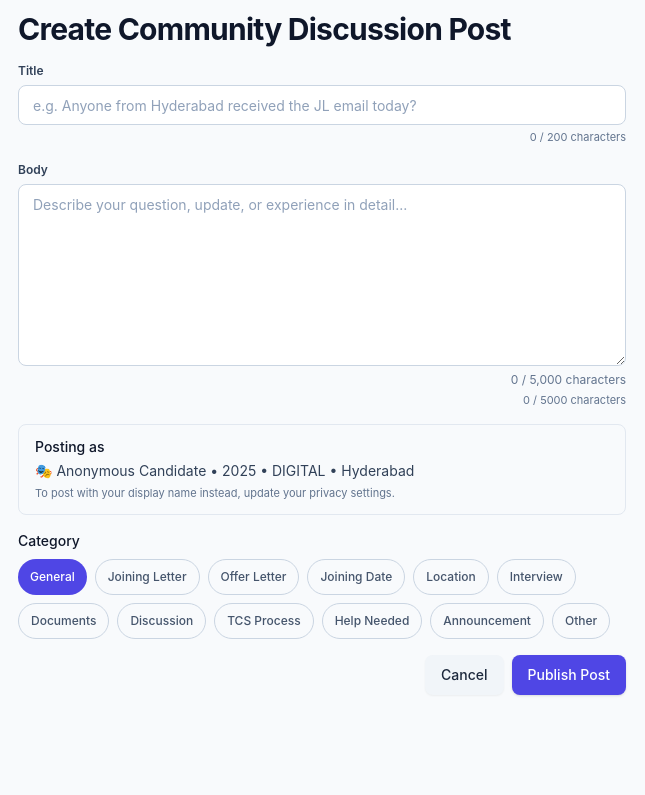
CreatePostPage › renders the duplicate rejection with the 60-minute window
Type "Joining letter timeline" into the field labelled "Title" at (322, 105), box [18,85,626,125]
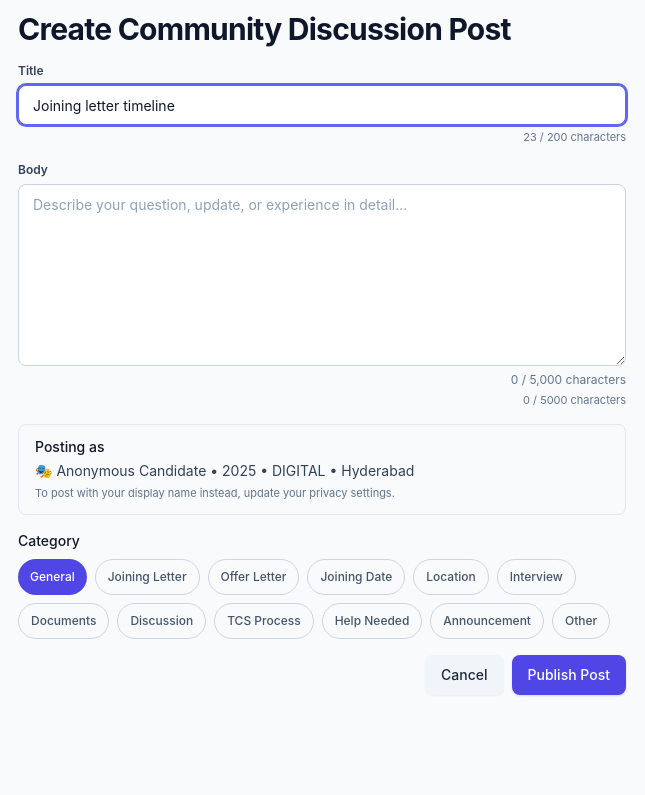
Type "Anyone heard back about the August wave?" into the text box labelled "Body" at (322, 274), box [18,184,626,366]
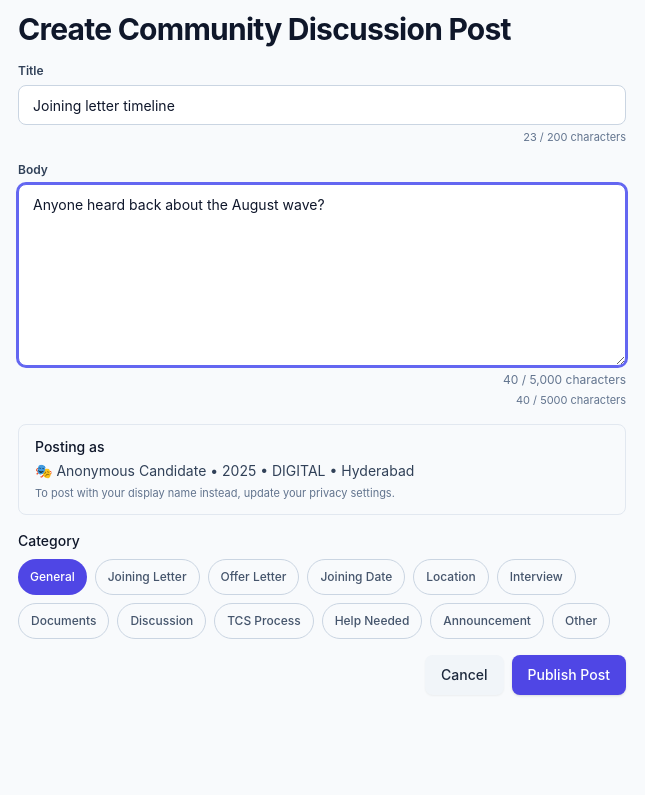
Click the button "Publish Post" at (569, 674), box [512,654,626,694]
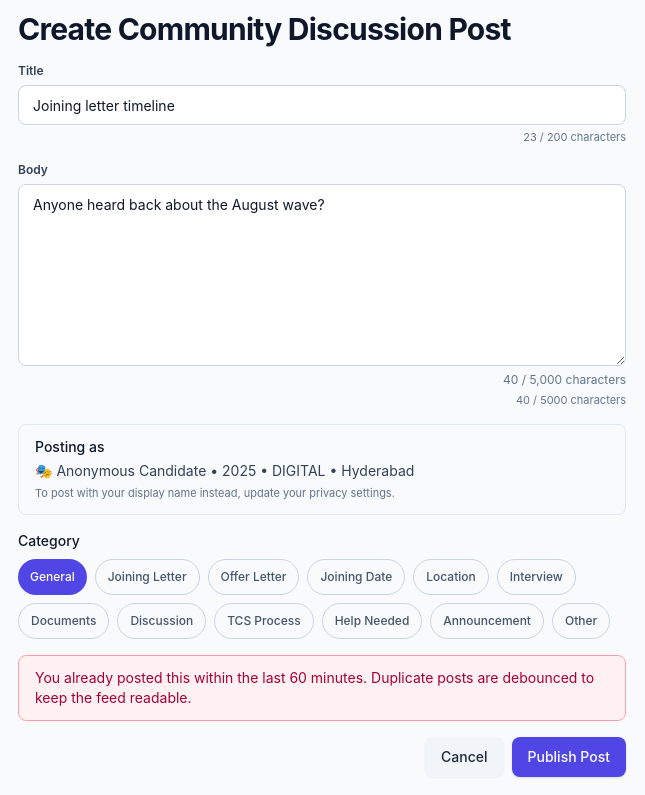
Result: the text "60 minutes" is shown at [35,668,594,706]
